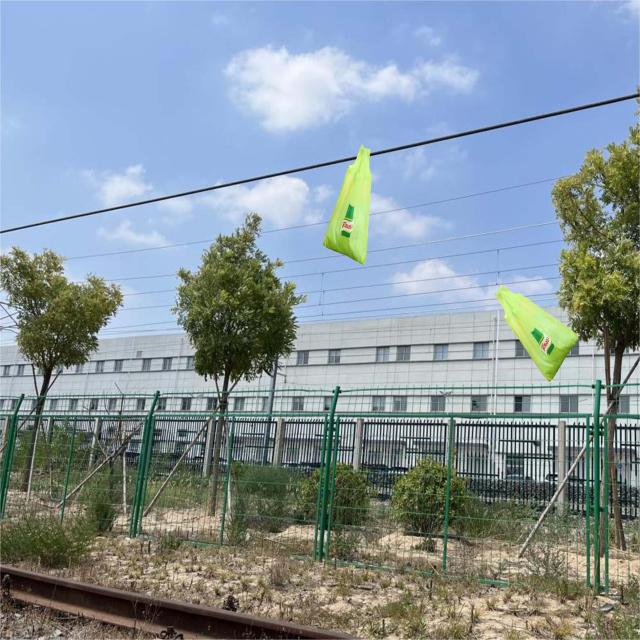plastic bag: (494, 285, 580, 379), (324, 147, 380, 264)
